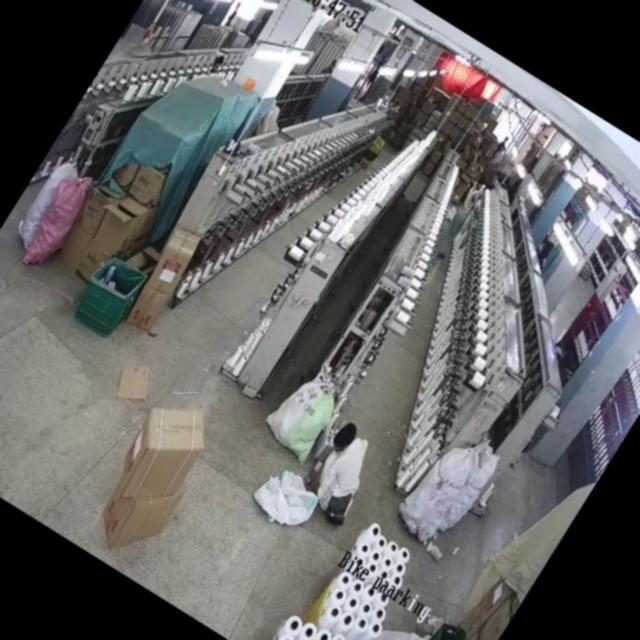person: (291, 424, 387, 536), (427, 172, 494, 264)
